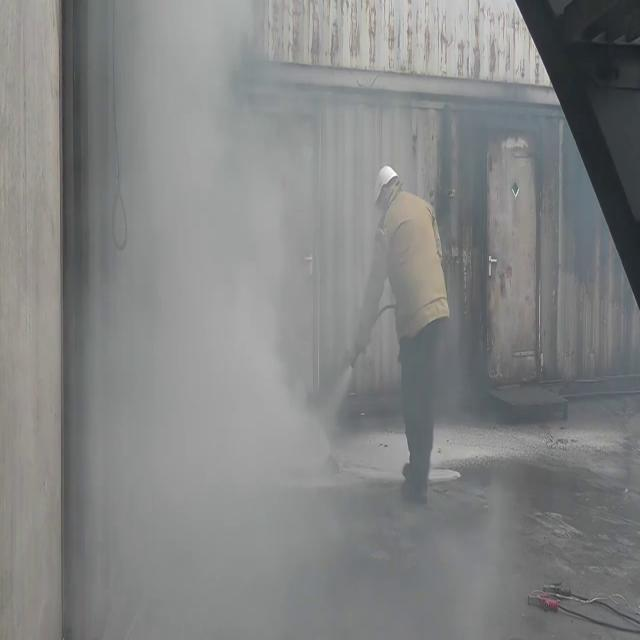Smoke: (69, 0, 349, 640)
